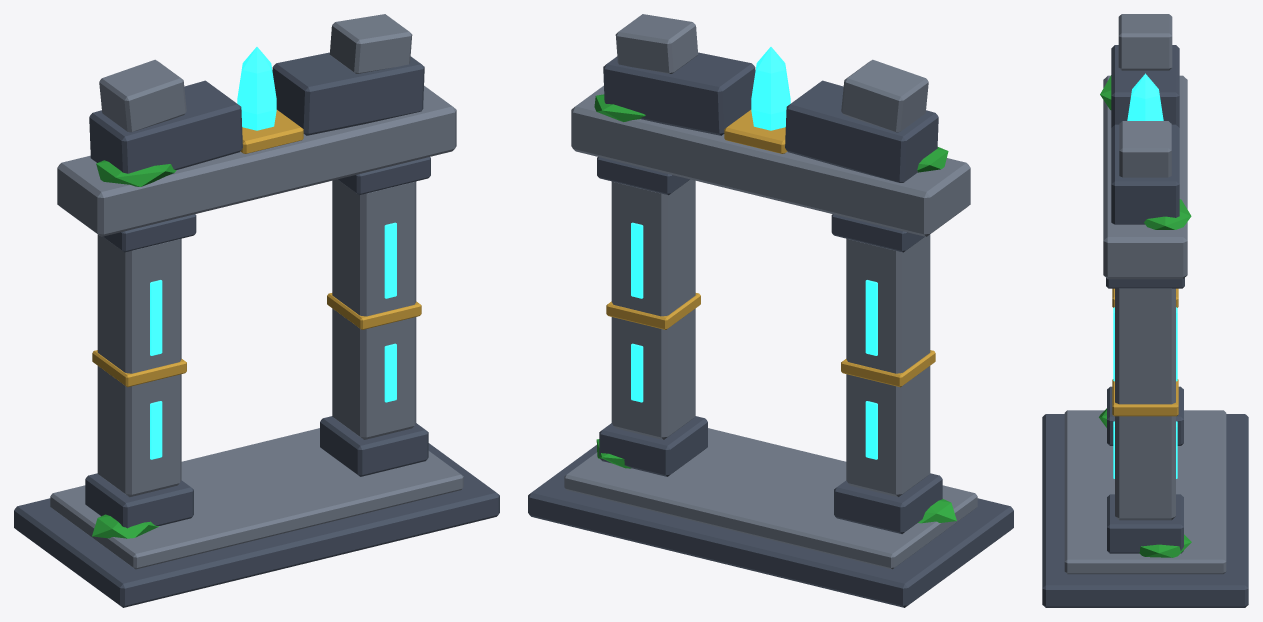
Rendered from ancient_ruin.glb.
The picture shows the model from 3 angles, left to right: view 1: azimuth 30°, elevation 25°; view 2: azimuth 150°, elevation 25°; view 3: azimuth 270°, elevation 25°; orthographic projection. The views are drawn at different scales.
Visible parts, largest first — view 1: Archway; view 2: Archway; view 3: Archway.
Boxes of the visible parts, bbox=[...] form: Archway: bbox=[14, 14, 499, 607]; Archway: bbox=[528, 14, 1013, 607]; Archway: bbox=[1042, 14, 1248, 607].
Size of the model in its own units: 4.6 by 5.52 by 2.3.
